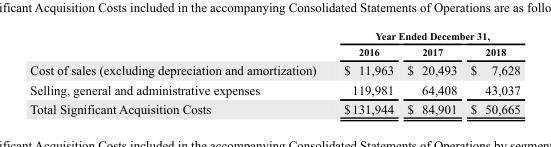table: (29, 29, 519, 115)
table column: (29, 29, 329, 115), (329, 29, 399, 115), (399, 29, 463, 115), (463, 29, 519, 115)
table column header: (29, 29, 519, 60)
table row: (29, 60, 519, 79), (29, 79, 519, 98), (29, 43, 519, 60), (29, 98, 519, 115), (29, 29, 519, 43)
table spanning cell: (329, 29, 519, 43)
